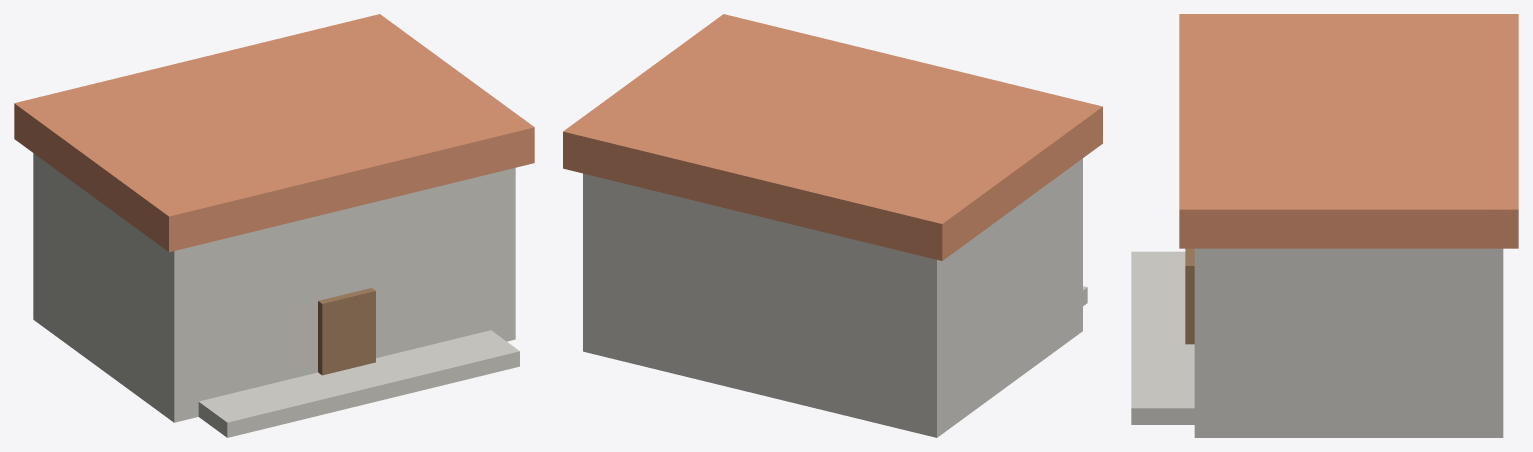
Rendered from old_tamil_house.glb.
3 views of the same model, side by side, from view 1: azimuth 30°, elevation 25°; view 2: azimuth 150°, elevation 25°; view 3: azimuth 270°, elevation 25° (orthographic). The views are drawn at different scales.
Visible parts, largest first — view 1: SlopedRoof_Node, HouseBlock_Node, ThinnaiVeranda_Node, MainDoorway_Node; view 2: HouseBlock_Node, SlopedRoof_Node; view 3: SlopedRoof_Node, HouseBlock_Node, ThinnaiVeranda_Node, MainDoorway_Node.
Part boxes in pixels (x1=…): SlopedRoof_Node: x1=14, y1=14, x2=534, y2=252; HouseBlock_Node: x1=33, y1=153, x2=515, y2=422; ThinnaiVeranda_Node: x1=198, y1=330, x2=519, y2=437; MainDoorway_Node: x1=318, y1=288, x2=375, y2=375; HouseBlock_Node: x1=583, y1=158, x2=1082, y2=437; SlopedRoof_Node: x1=563, y1=14, x2=1102, y2=260; SlopedRoof_Node: x1=1179, y1=14, x2=1518, y2=248; HouseBlock_Node: x1=1194, y1=248, x2=1503, y2=437; ThinnaiVeranda_Node: x1=1131, y1=251, x2=1194, y2=424; MainDoorway_Node: x1=1185, y1=248, x2=1194, y2=344.
Size of the model in its own units: 15 by 8.4 by 12.55.
